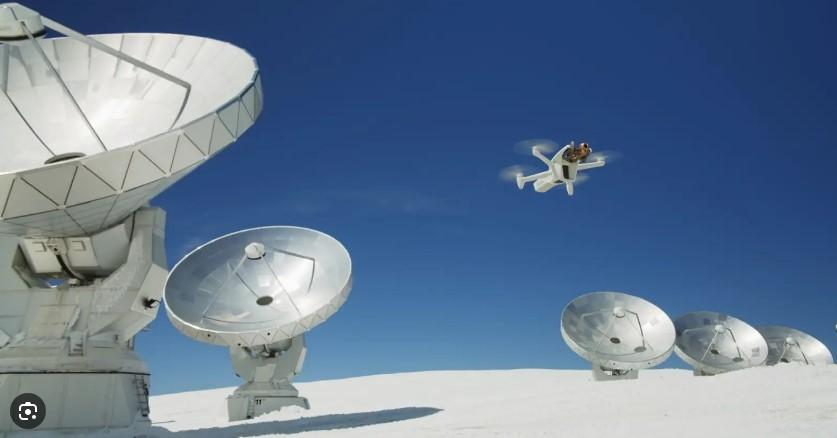drone: (495, 136, 625, 197)
